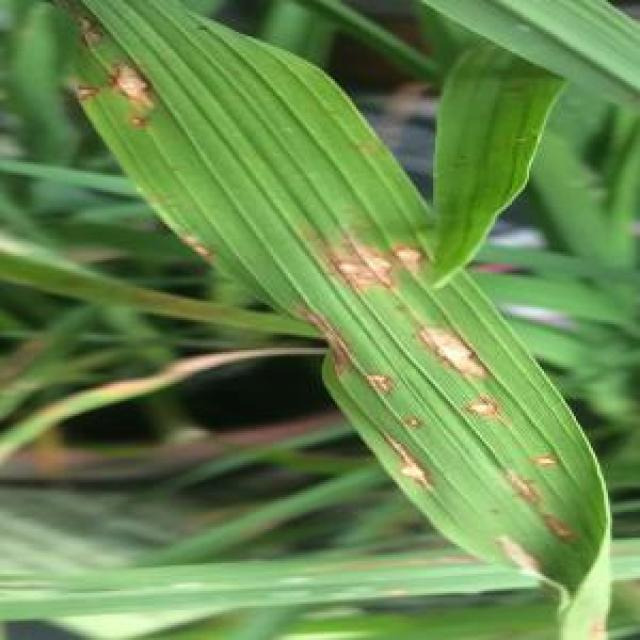Rice: (409, 322, 498, 388), (326, 243, 392, 302), (106, 51, 158, 114), (374, 433, 428, 488), (492, 532, 550, 580), (540, 507, 578, 549), (460, 388, 498, 424), (389, 234, 425, 272), (503, 468, 538, 502), (523, 449, 563, 477), (363, 366, 389, 394), (406, 414, 422, 429)
